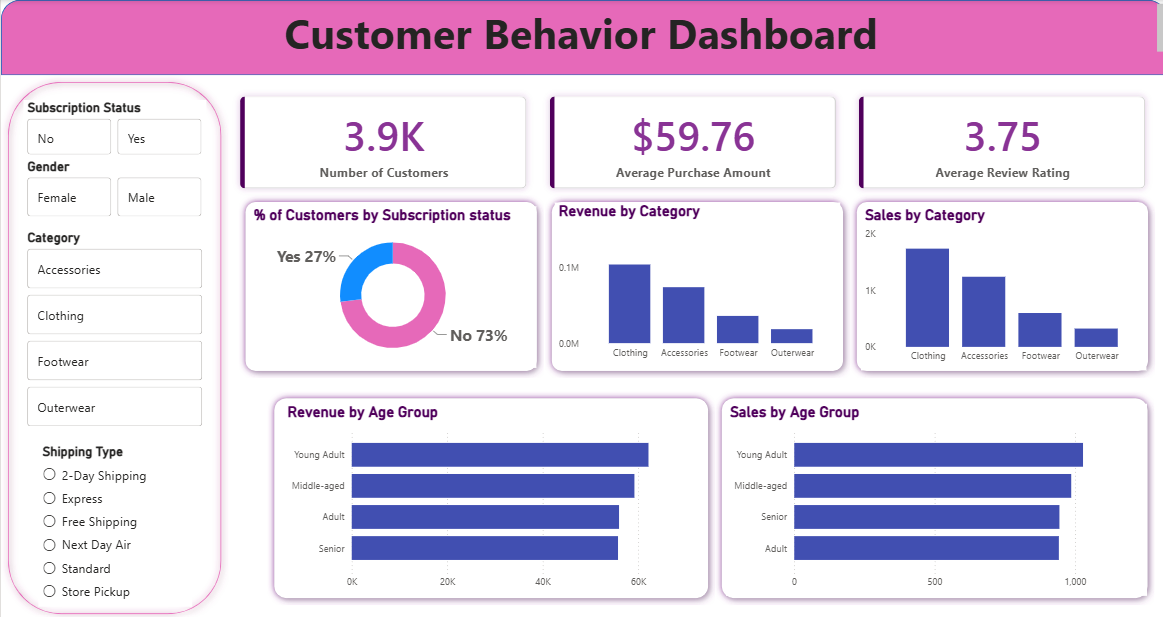

This screenshot's page, from the dashboard's own definition file:
{"tool":"powerbi","page":{"name":"Page 1","canvas":[1500,800],"ordinal":0},"visuals":[{"type":"cardVisual","fields":{"Data":["public customer.Number of Customers","public customer.Average Purchase Amount","public customer.Average Review Rating"]},"box":[280.3,96.9,1220,174.8],"z":0},{"type":"shape","box":[0,0,1500.4,96.9],"z":1000},{"type":"textbox","box":[0,0,1500.4,76.1],"z":2000},{"type":"shape","box":[306.3,250.9,392.8,235.3],"z":3000},{"type":"donutChart","title":"% of Customers by Subscription status","fields":{"Category":["public customer.subscription_status"],"Y":["CountNonNull(public customer.customer_id)"]},"box":[320.1,264.8,368.6,207.7],"z":4000},{"type":"shape","box":[699.1,250.9,392.8,235.3],"z":5000},{"type":"shape","box":[1092,250.9,392.8,235.3],"z":6000},{"type":"clusteredColumnChart","title":"Revenue by Category","fields":{"Y":["Sum(public customer.purchase_amount)"],"Category":["public customer.category"]},"box":[713,261.3,366.9,211.1],"z":7000},{"type":"clusteredColumnChart","title":"Sales by Category","fields":{"Category":["public customer.category"],"Y":["CountNonNull(public customer.customer_id)"]},"box":[1105.8,264.8,366.9,211.1],"z":8000},{"type":"shape","box":[0,96.9,292.5,702.6],"z":9000},{"type":"advancedSlicerVisual","fields":{"Values":["public customer.subscription_status"]},"box":[29.4,128.1,235.3,76.1],"z":10000},{"type":"advancedSlicerVisual","fields":{"Values":["public customer.gender"]},"box":[29.4,204.2,235.3,79.6],"z":11000},{"type":"advancedSlicerVisual","title":"Category","fields":{"Values":["public customer.category"]},"box":[29.4,295.9,235.3,259.6],"z":12000},{"type":"listSlicer","fields":{"Values":["public customer.shipping_type"]},"box":[48.5,571.1,197.3,209.4],"z":13000},{"type":"shape","box":[342.6,503.6,576.3,275.2],"z":14000},{"type":"shape","box":[918.9,503.6,565.9,275.2],"z":16000},{"type":"clusteredBarChart","title":"Revenue by Age Group","fields":{"Y":["Sum(public customer.purchase_amount)"],"Category":["public customer.age_group"]},"box":[363.4,519.2,533,247.5],"z":16500},{"type":"clusteredBarChart","title":"Sales by Age Group","fields":{"Category":["public customer.age_group"],"Y":["CountNonNull(public customer.customer_id)"]},"box":[932.7,519.2,541.6,247.5],"z":17000}]}

Visuals, with their boxes in screenshot pixels (x1, y1, x2, y2), scaled from the page's 1500x800 canvas onto the 1163x617 screenshot:
cardVisual - public customer.Number of Customers x public customer.Average Purchase Amount: x1=217 y1=75 x2=1162 y2=210
shape: x1=0 y1=0 x2=1162 y2=75
textbox: x1=0 y1=0 x2=1162 y2=59
shape: x1=237 y1=194 x2=542 y2=375
"% of Customers by Subscription status" donutChart: x1=248 y1=204 x2=534 y2=364
shape: x1=542 y1=194 x2=847 y2=375
shape: x1=847 y1=194 x2=1151 y2=375
"Revenue by Category" clusteredColumnChart: x1=553 y1=202 x2=837 y2=364
"Sales by Category" clusteredColumnChart: x1=857 y1=204 x2=1142 y2=367
shape: x1=0 y1=75 x2=227 y2=616
advancedSlicerVisual - public customer.subscription_status: x1=23 y1=99 x2=205 y2=157
advancedSlicerVisual - public customer.gender: x1=23 y1=157 x2=205 y2=219
"Category" advancedSlicerVisual: x1=23 y1=228 x2=205 y2=428
listSlicer - public customer.shipping_type: x1=38 y1=440 x2=191 y2=602
shape: x1=266 y1=388 x2=712 y2=601
shape: x1=712 y1=388 x2=1151 y2=601
"Revenue by Age Group" clusteredBarChart: x1=282 y1=400 x2=695 y2=591
"Sales by Age Group" clusteredBarChart: x1=723 y1=400 x2=1143 y2=591
